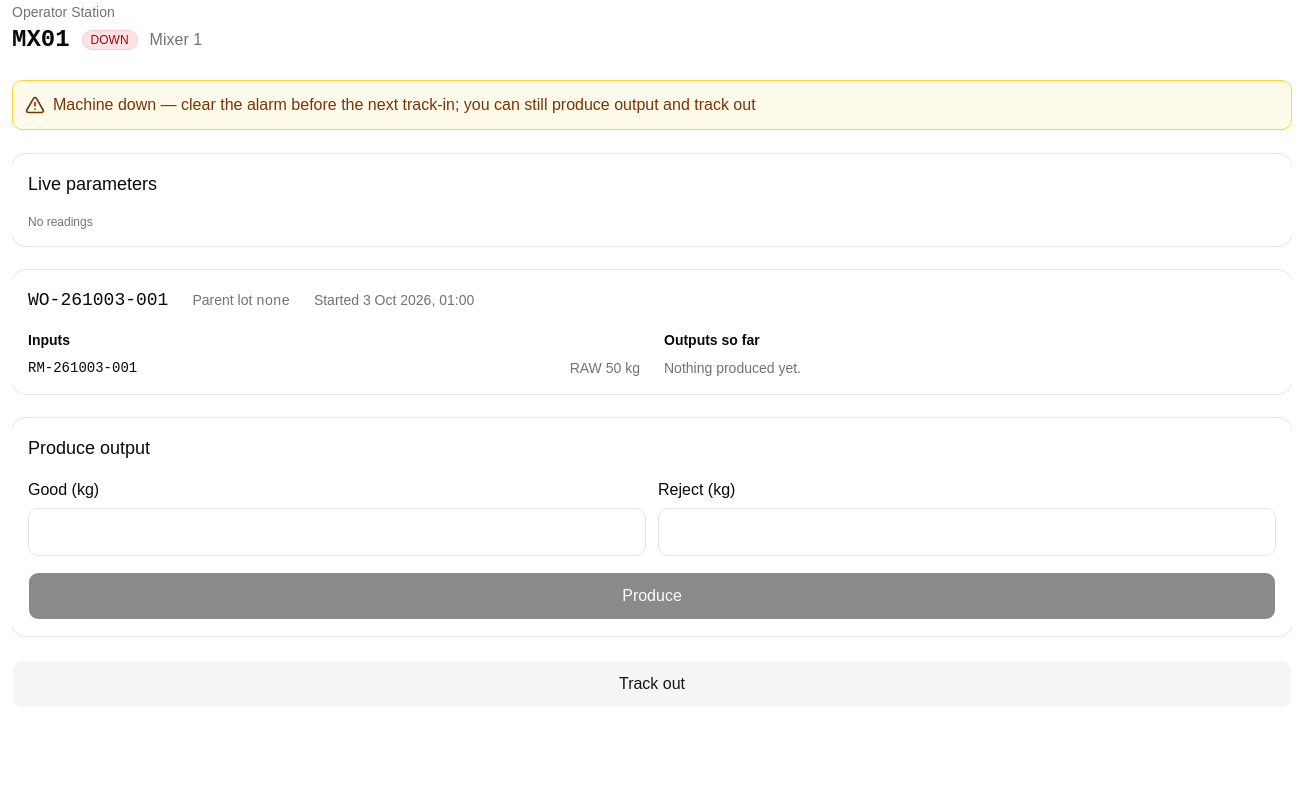
Test: StationPage › keeps the open run usable when the machine is DOWN
This screenshot has width=1304, height=800.
Expected: the text "Machine down" is shown, [53,96,756,113]
Expected: the button "Track out" is enabled, [12,660,1292,708]
In the number field labelled "Good (kg)": coordinates (337, 532) [28,508,646,556], type "40"
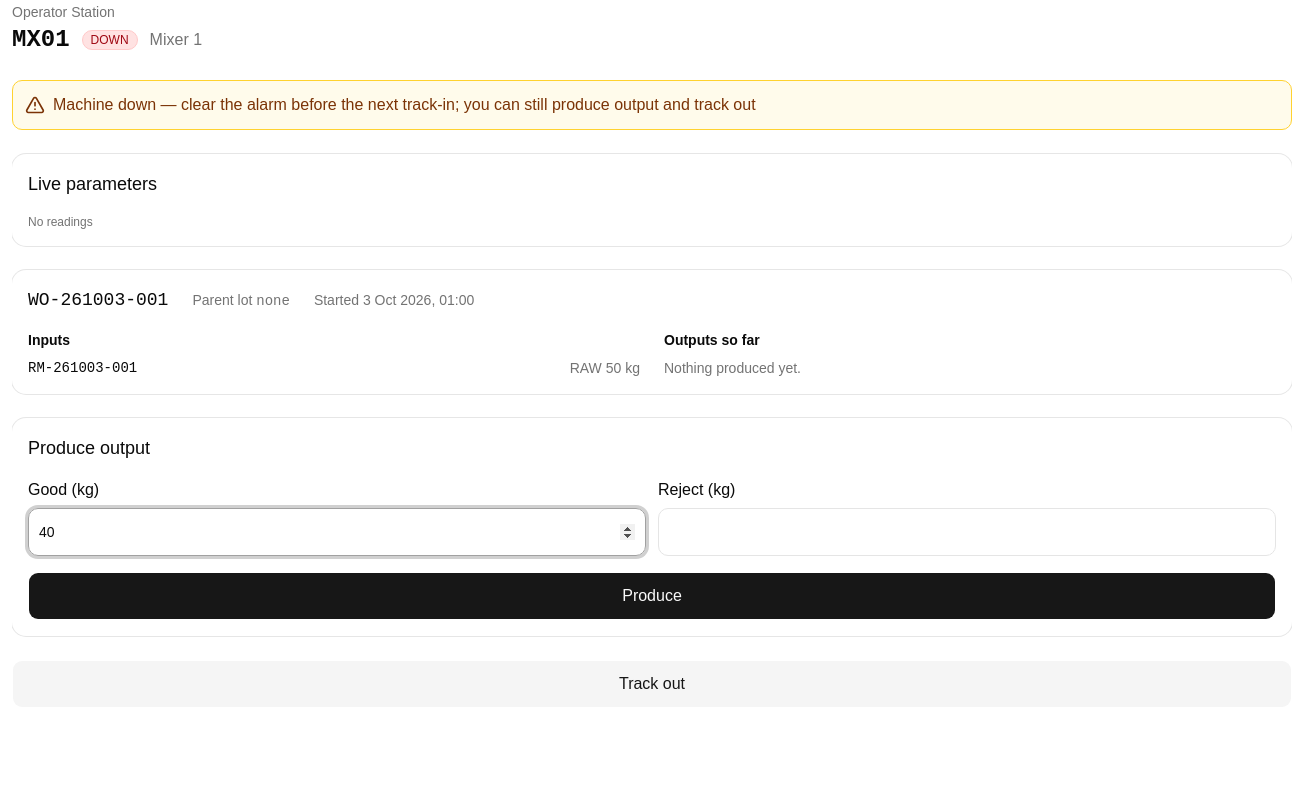
Expected: the button "Produce" is enabled, [28,572,1276,620]
